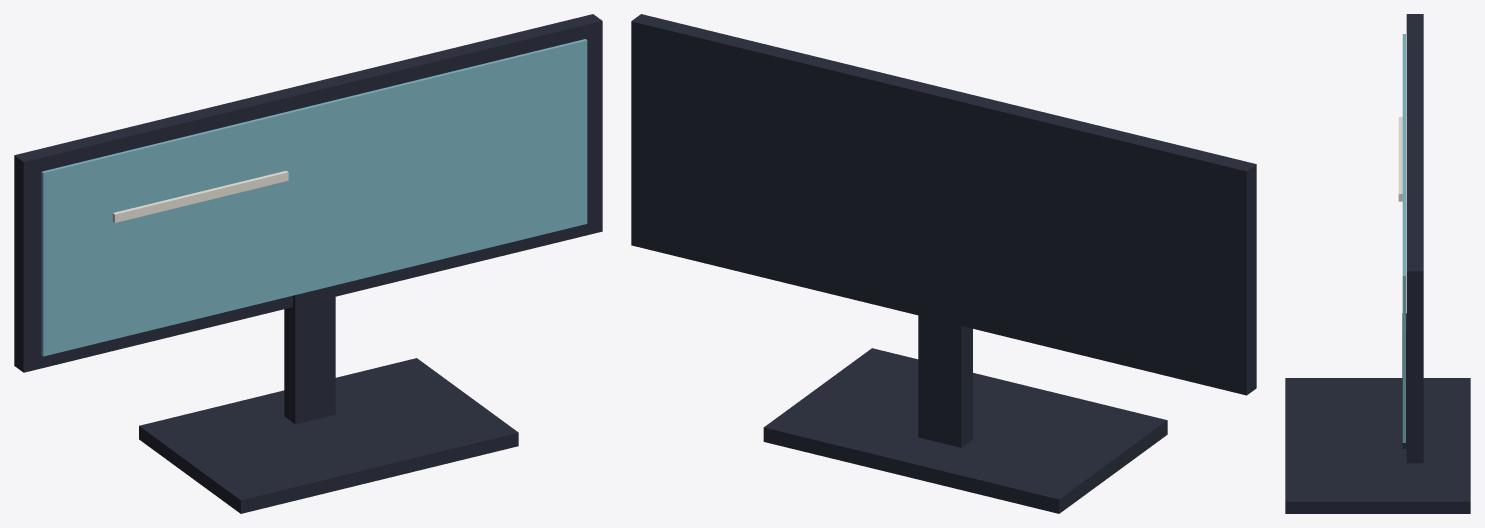
Rendered from ultrawide-monitor.glb.
The picture shows the model from 3 angles, left to right: view 1: azimuth 30°, elevation 25°; view 2: azimuth 150°, elevation 25°; view 3: azimuth 270°, elevation 25°; orthographic projection. The views are drawn at different scales.
Parts seen in each view (by area): view 1: ultrawide-monitor; view 2: ultrawide-monitor; view 3: ultrawide-monitor.
Part boxes in pixels (x1,y1,x2,y2): ultrawide-monitor: (14, 14, 602, 513); ultrawide-monitor: (631, 14, 1256, 513); ultrawide-monitor: (1285, 14, 1470, 513).
Size of the model in its own units: 82 by 46 by 25.
